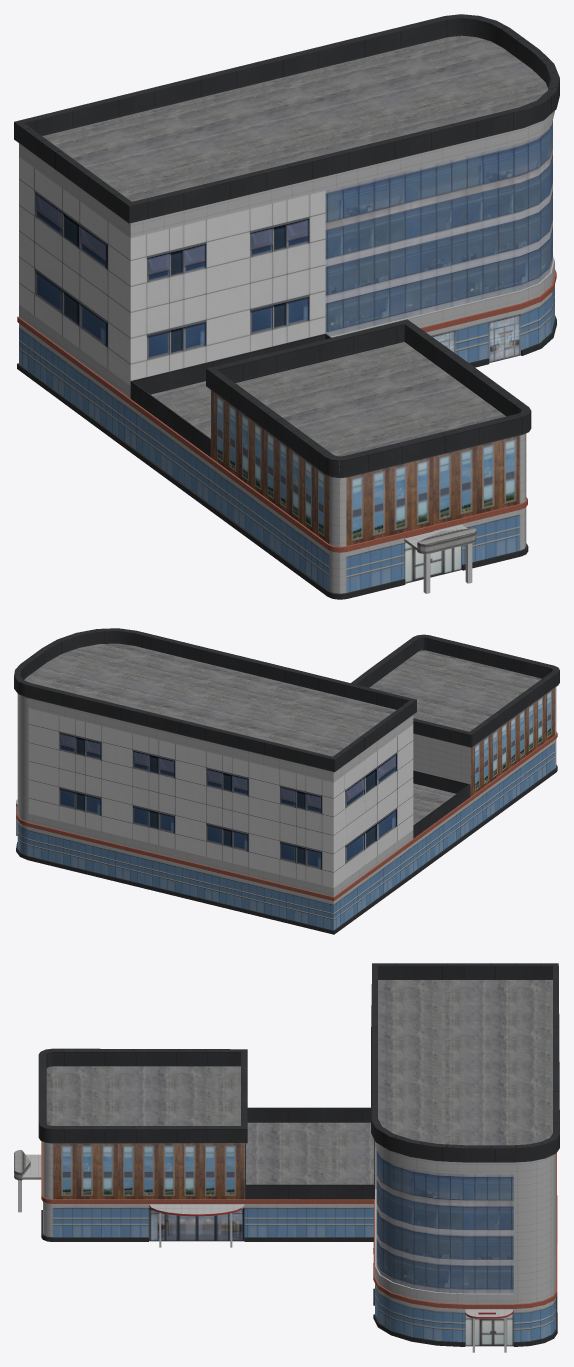
File: office.fbx
3 renders of one model, top to bottom at view 1: azimuth 30°, elevation 25°; view 2: azimuth 150°, elevation 25°; view 3: azimuth 270°, elevation 25°, orthographic. The views are drawn at different scales.
Parts seen in each view (by area): view 1: Cube.002; view 2: Cube.002; view 3: Cube.002.
Boxes of the visible parts, x1,y1,x2,y2 form: Cube.002: (14,14,559,599); Cube.002: (14,628,559,934); Cube.002: (14,963,559,1352).
Bounding box in the file's own units: 5729 × 2792 × 6902.
1 material, 1 textured.
